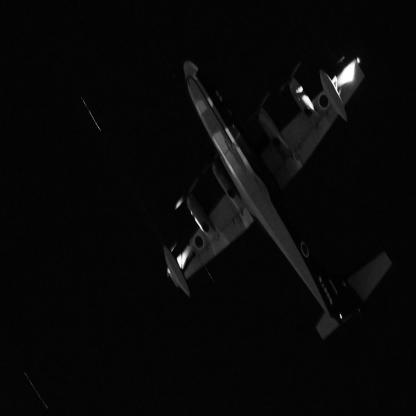US2: (164, 55, 394, 342)
